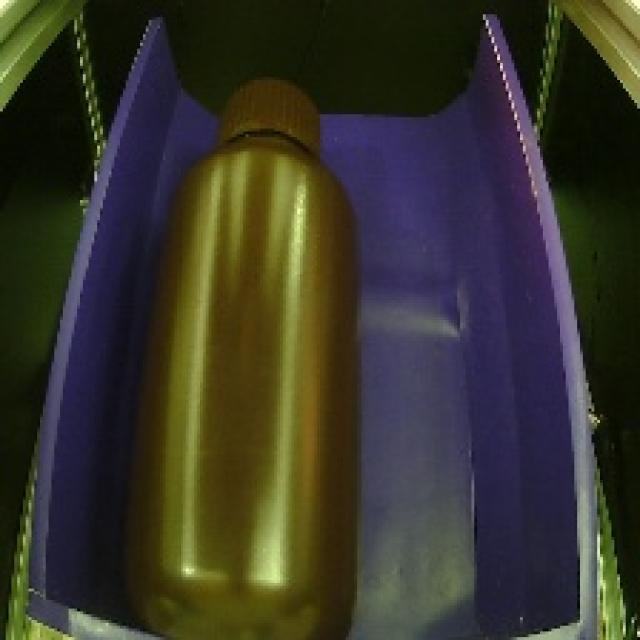plastic: (104, 57, 386, 640)
